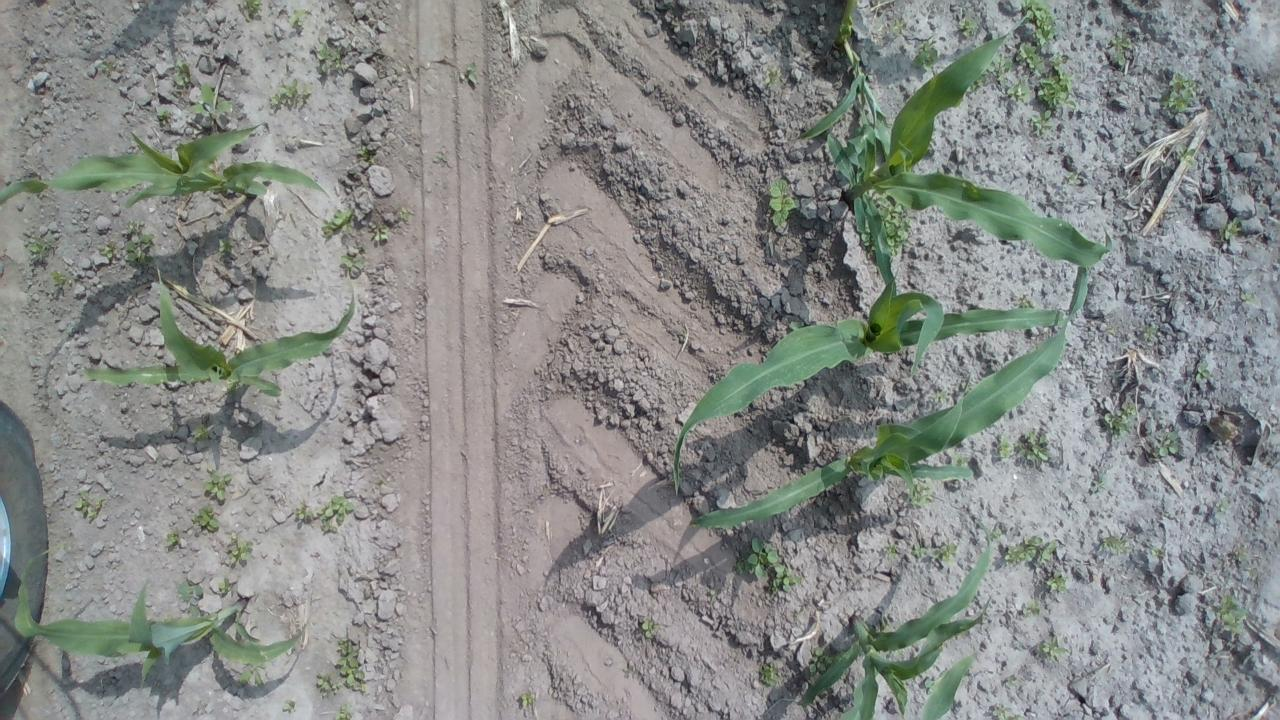Maize: (688, 280, 1092, 536), (669, 254, 1068, 498), (773, 28, 1127, 294), (8, 535, 336, 705), (791, 520, 1014, 720), (71, 262, 362, 412), (0, 114, 346, 214)
Weeds: (733, 541, 797, 600), (858, 199, 913, 260), (27, 232, 75, 295), (291, 495, 363, 534), (994, 426, 1060, 467), (874, 538, 960, 567), (1162, 65, 1202, 122), (334, 629, 368, 696), (757, 174, 799, 227), (1018, 0, 1063, 49), (894, 476, 950, 512), (1037, 61, 1073, 112), (802, 644, 849, 683), (1145, 420, 1186, 463), (122, 219, 156, 270), (1101, 26, 1137, 74), (311, 41, 354, 80), (1001, 535, 1063, 562), (237, 655, 276, 695), (1006, 34, 1042, 75), (1098, 393, 1134, 434), (266, 80, 315, 110), (194, 89, 236, 123), (315, 202, 359, 234), (202, 470, 240, 507), (1212, 595, 1246, 636), (70, 489, 111, 522), (181, 414, 223, 445), (910, 41, 945, 75), (1098, 534, 1140, 562), (212, 230, 246, 264), (218, 540, 256, 570), (172, 578, 210, 607), (1034, 634, 1068, 666), (382, 202, 414, 235), (456, 57, 486, 92), (337, 246, 367, 280), (97, 234, 126, 269), (1000, 77, 1035, 106), (1215, 213, 1244, 246), (308, 672, 344, 698), (356, 140, 389, 168), (986, 699, 1028, 720), (153, 103, 186, 129), (1174, 144, 1200, 176), (1028, 109, 1056, 138), (1190, 360, 1214, 393), (758, 64, 786, 92), (197, 507, 226, 534), (1014, 598, 1046, 622), (754, 656, 779, 686), (94, 56, 125, 80), (166, 62, 203, 82), (1032, 568, 1062, 592), (362, 219, 388, 246), (640, 617, 664, 643), (286, 8, 310, 33), (954, 10, 976, 37), (516, 690, 543, 712), (216, 578, 242, 600), (165, 528, 188, 552), (1010, 294, 1038, 313), (431, 147, 454, 170), (1138, 320, 1162, 342), (242, 1, 267, 20), (1230, 543, 1252, 564), (1210, 496, 1232, 515), (334, 704, 360, 720), (1150, 546, 1172, 564), (1237, 288, 1255, 310), (280, 701, 304, 717), (931, 387, 952, 404), (1064, 166, 1082, 185), (1102, 320, 1120, 338), (705, 586, 718, 608)
